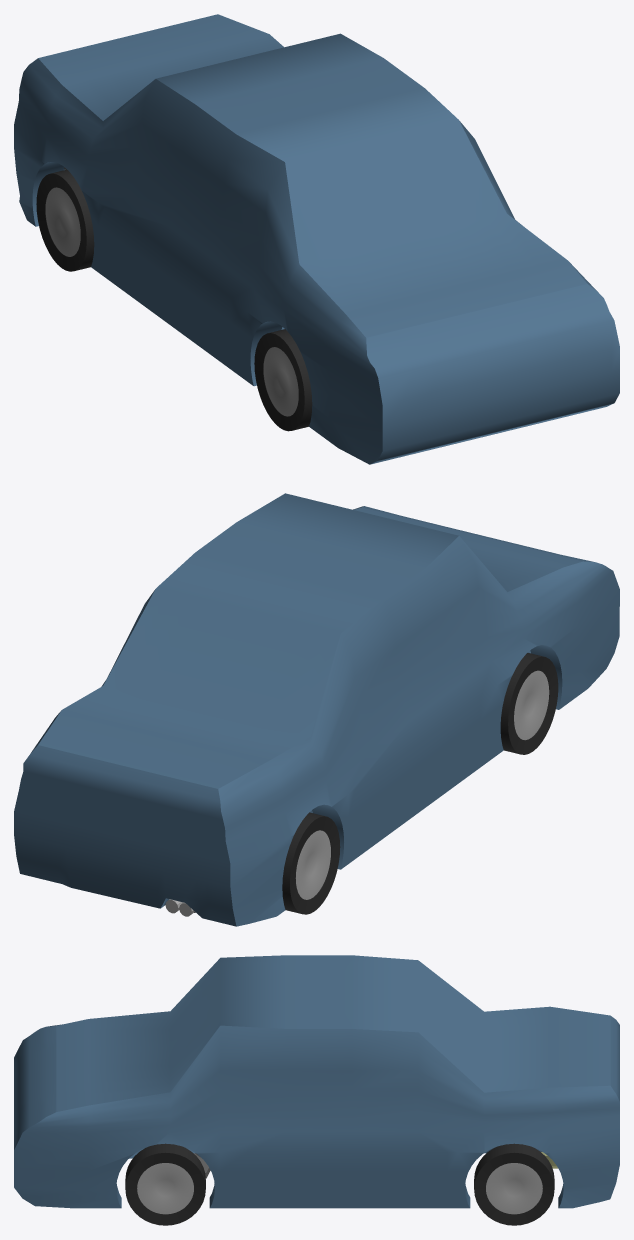
File: car_2020041703.fbx
3 views of the same model, one above another, from view 1: azimuth 30°, elevation 25°; view 2: azimuth 150°, elevation 25°; view 3: azimuth 270°, elevation 25° (orthographic). The views are drawn at different scales.
Visible parts, largest first — view 1: pasted__pCube2, tire02, tire04, front_wheel4, front_wheel2; view 2: pasted__pCube2, tire04, tire02, front_wheel4, front_wheel2; view 3: pasted__pCube2, tire01, tire03, front_wheel1, front_wheel3.
Boxes of the visible parts, x1,y1,x2,y2 form: pasted__pCube2: [14, 14, 619, 464]; tire02: [36, 169, 94, 271]; tire04: [254, 329, 312, 431]; front_wheel4: [263, 347, 298, 416]; front_wheel2: [45, 187, 80, 256]; pasted__pCube2: [14, 493, 619, 926]; tire04: [500, 653, 558, 754]; tire02: [282, 812, 340, 914]; front_wheel4: [514, 670, 549, 740]; front_wheel2: [295, 830, 330, 899]; pasted__pCube2: [14, 955, 619, 1208]; tire01: [474, 1143, 554, 1225]; tire03: [125, 1143, 205, 1225]; front_wheel1: [486, 1163, 542, 1214]; front_wheel3: [137, 1163, 193, 1214].
Size of the model in its own units: 177 by 154 by 459.
